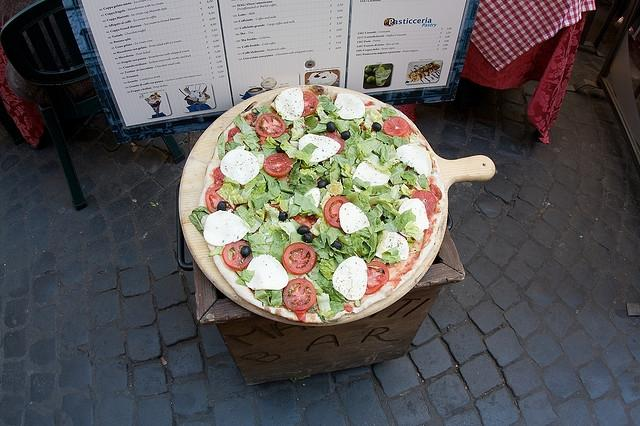tomato: (282, 278, 316, 312), (282, 242, 317, 275), (222, 241, 253, 271), (364, 260, 390, 294), (206, 186, 238, 213), (324, 196, 349, 229), (256, 112, 286, 138), (264, 153, 292, 177), (412, 190, 436, 214), (383, 116, 409, 137), (300, 91, 319, 118), (288, 214, 318, 231), (324, 132, 344, 154), (224, 125, 242, 148), (212, 167, 225, 187)
